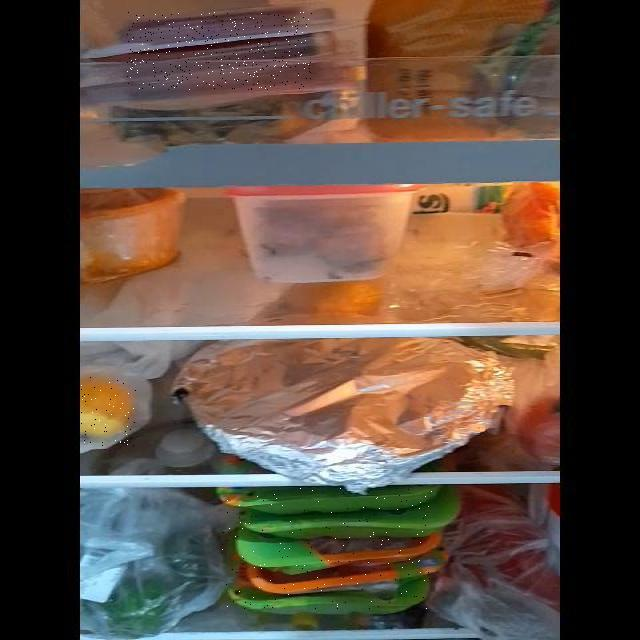chicken: (222, 488, 434, 609)
lemon: (81, 375, 136, 446)
salami: (127, 12, 312, 90)
